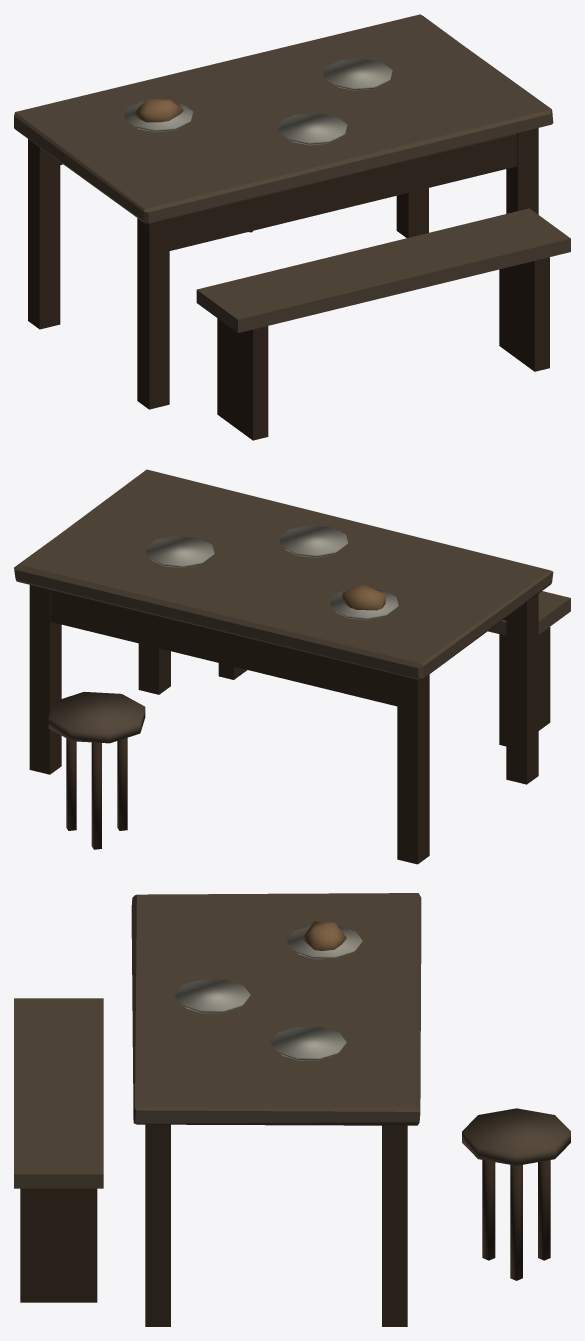
File: table.glb
3 views of the same model, one above another, from view 1: azimuth 30°, elevation 25°; view 2: azimuth 150°, elevation 25°; view 3: azimuth 270°, elevation 25° (orthographic). The views are drawn at different scales.
Visible parts, largest first — view 1: table; view 2: table; view 3: table.
Part boxes in pixels (<box>): table: <box>14,14,570,440</box>; table: <box>14,469,570,864</box>; table: <box>14,893,570,1326</box>.
Size of what is drawn, in the model's own units: 1.6 by 0.8417 by 1.74.
